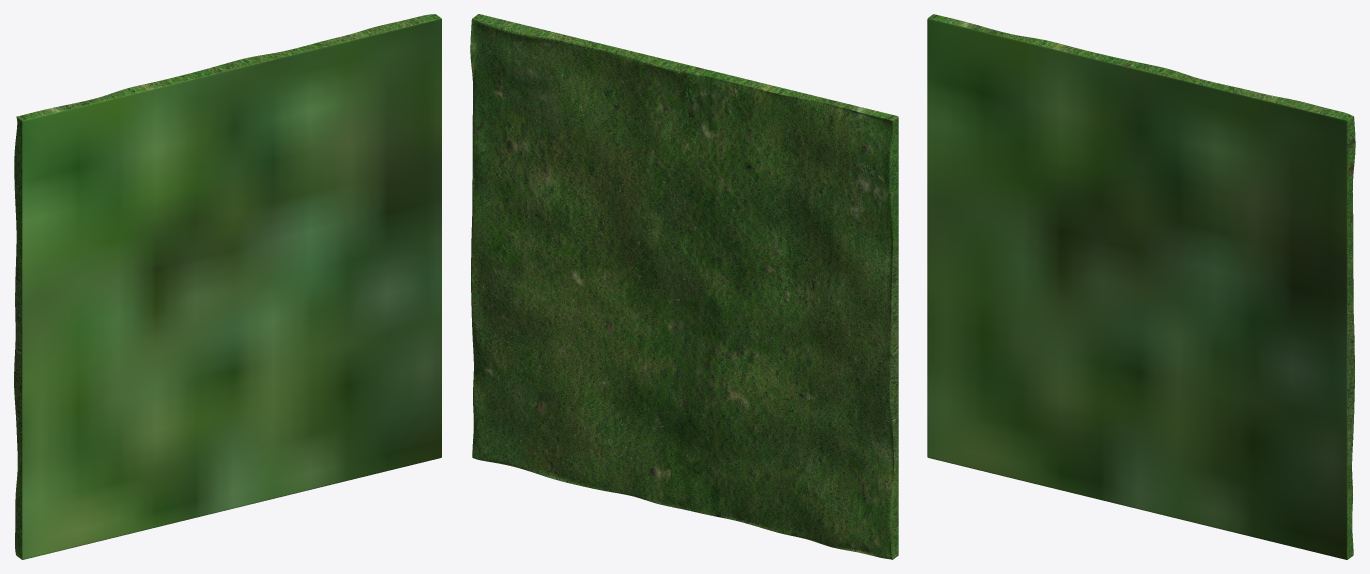
Rendered from grass.glb.
3 views of the same model, side by side, from view 1: azimuth 30°, elevation 25°; view 2: azimuth 150°, elevation 25°; view 3: azimuth 330°, elevation 25° (orthographic).
Visible parts, largest first — view 1: 10450_Rectangular_Grass_Patch_v1_iterations-2; view 2: 10450_Rectangular_Grass_Patch_v1_iterations-2; view 3: 10450_Rectangular_Grass_Patch_v1_iterations-2.
Boxes of the visible parts, <box> form: 10450_Rectangular_Grass_Patch_v1_iterations-2: <box>14,14,441,559</box>; 10450_Rectangular_Grass_Patch_v1_iterations-2: <box>470,14,898,559</box>; 10450_Rectangular_Grass_Patch_v1_iterations-2: <box>927,14,1355,559</box>.
Size of the model in its own units: 300 by 300 by 11.78.
Materials: 1 (1 with a texture image).
